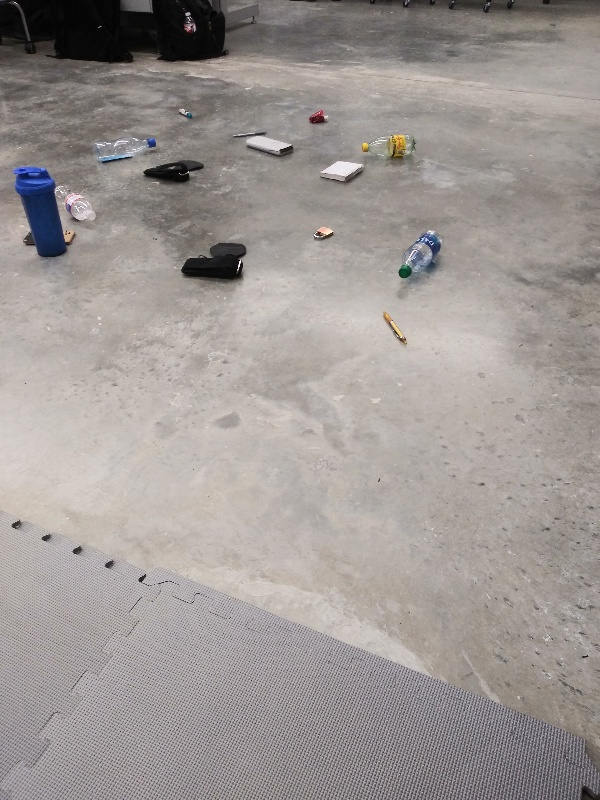bottle: (396, 225, 448, 282), (49, 178, 99, 227), (91, 130, 159, 165), (356, 133, 420, 165)
